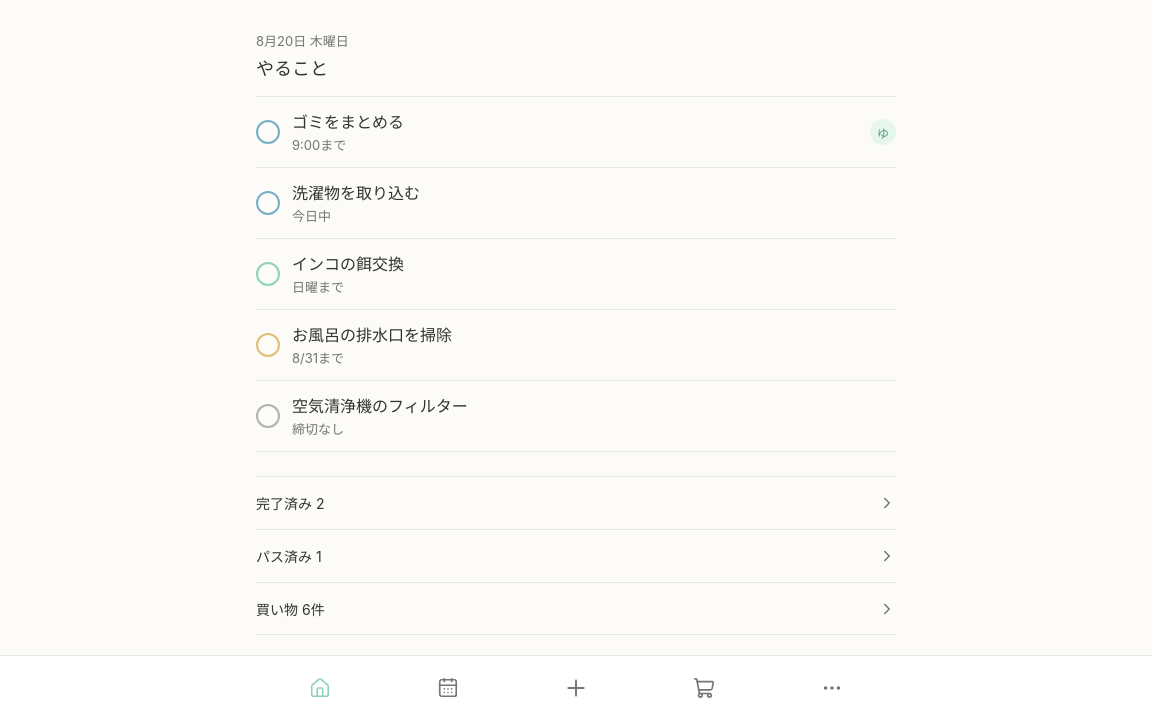
Test: hash routing › can navigate to /other through bottom navigation
This screenshot has width=1152, height=720.
Step 1. Click the link named "その他" → (832, 688), box [821, 677, 843, 699]
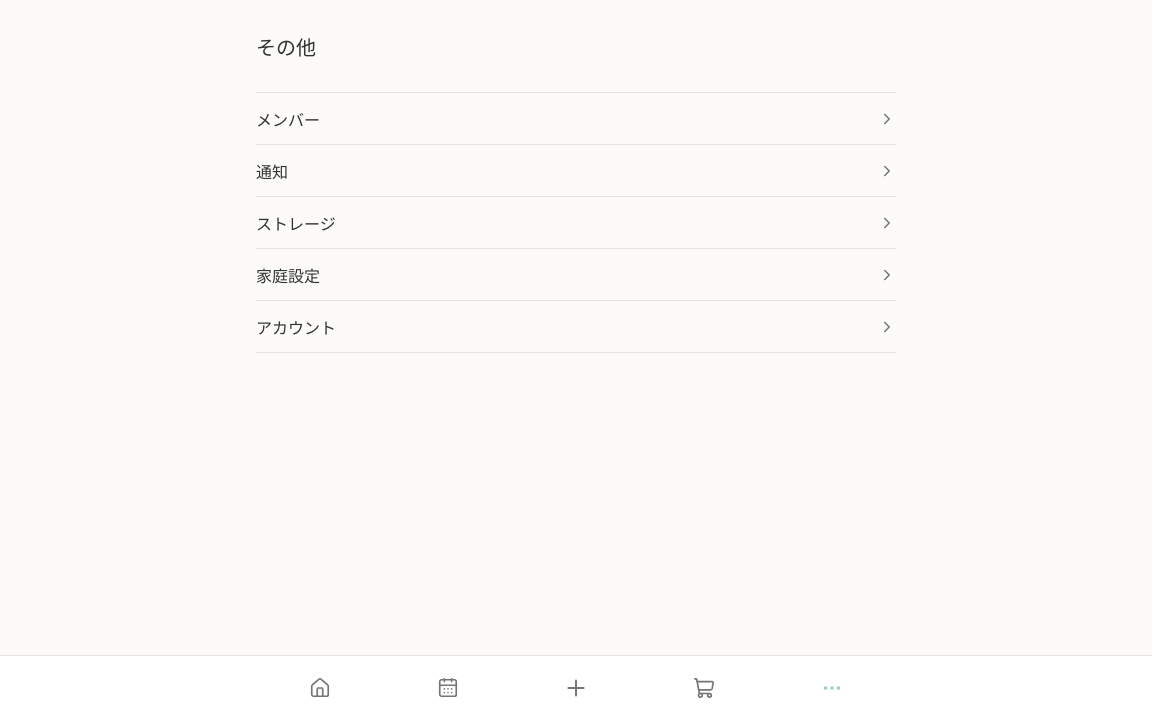
expect the heading "その他" is shown: met, box [256, 36, 316, 60]
